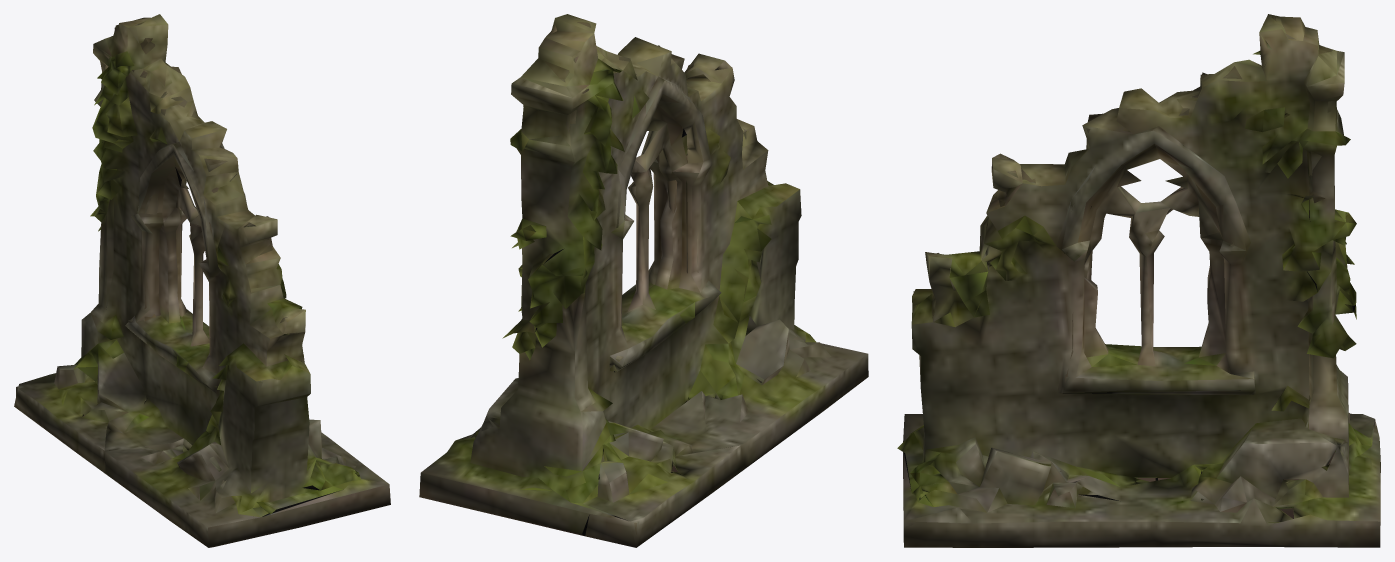
The model's file is ruins_wall.glb.
3 renders of one model, left to right at view 1: azimuth 30°, elevation 25°; view 2: azimuth 150°, elevation 25°; view 3: azimuth 270°, elevation 25°, orthographic. The views are drawn at different scales.
Visible parts, largest first — view 1: ruins_wall; view 2: ruins_wall; view 3: ruins_wall.
Boxes of the visible parts, box(x1,y1,x2,y2) form: ruins_wall: box(14, 14, 390, 547); ruins_wall: box(419, 14, 868, 547); ruins_wall: box(897, 14, 1380, 547).
Size of the model in its own units: 1.71 by 3.49 by 3.22.
1 material, 1 textured.
